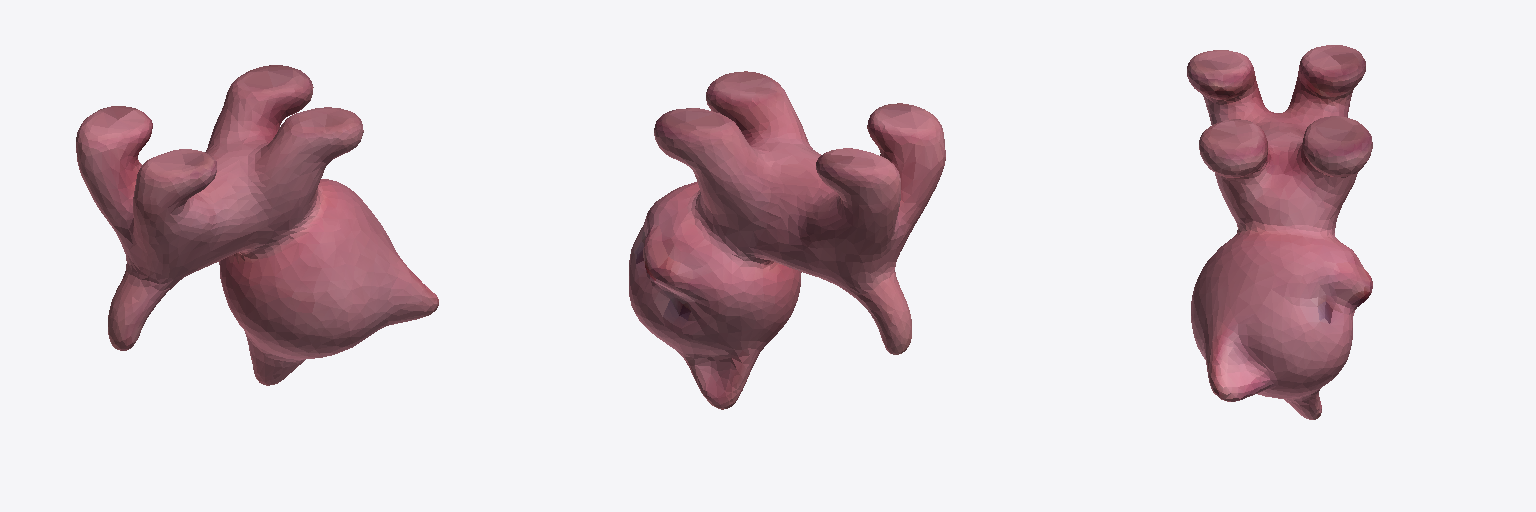
The picture shows the model from 3 angles: view 1: azimuth 30°, elevation 25°; view 2: azimuth 150°, elevation 25°; view 3: azimuth 270°, elevation 25°; orthographic projection.
Bounding box in the file's own units: 128 × 117 × 67.04.
Materials: 1 (1 with a texture image).